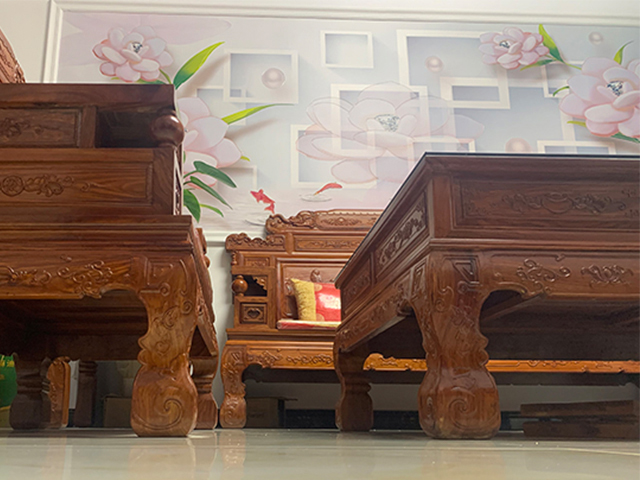sofa: (1, 30, 217, 438), (217, 208, 386, 429)
table: (332, 152, 640, 440)
